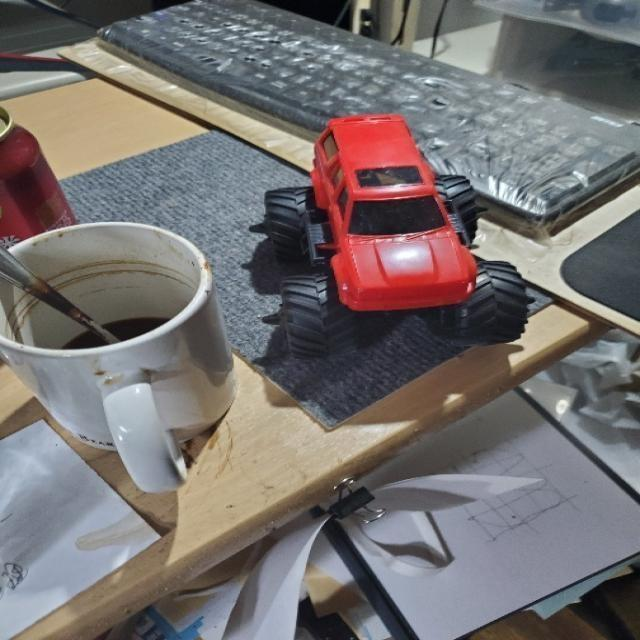Car: (235, 96, 554, 384)
